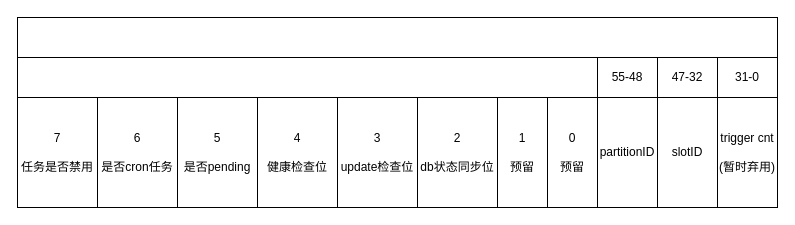
The diagram is 795 pixels wide and 225 high, and some of its shapes have lost their labels. Each missing label, with the centre of its shape:
"63-56（状态域）" goes at [307,77].
"Stat位组成部分" goes at [397,37].
